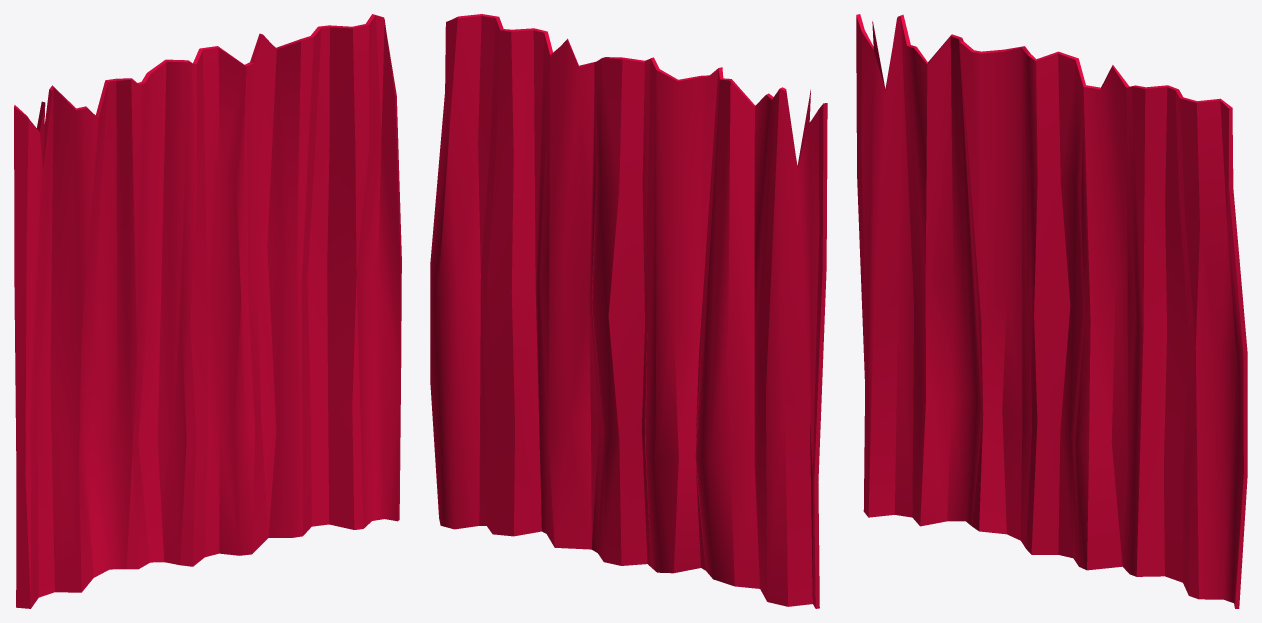
File: panel11.fbx
3 renders of one model, left to right at view 1: azimuth 30°, elevation 25°; view 2: azimuth 150°, elevation 25°; view 3: azimuth 330°, elevation 25°, orthographic.
Parts seen in each view (by area): view 1: panel11; view 2: panel11; view 3: panel11.
Boxes of the visible parts, <box> form: panel11: <box>14,14,401,608</box>; panel11: <box>430,14,827,608</box>; panel11: <box>856,14,1247,608</box>.
Bounding box in the file's own units: 0.5152 × 0.6478 × 0.0556.
